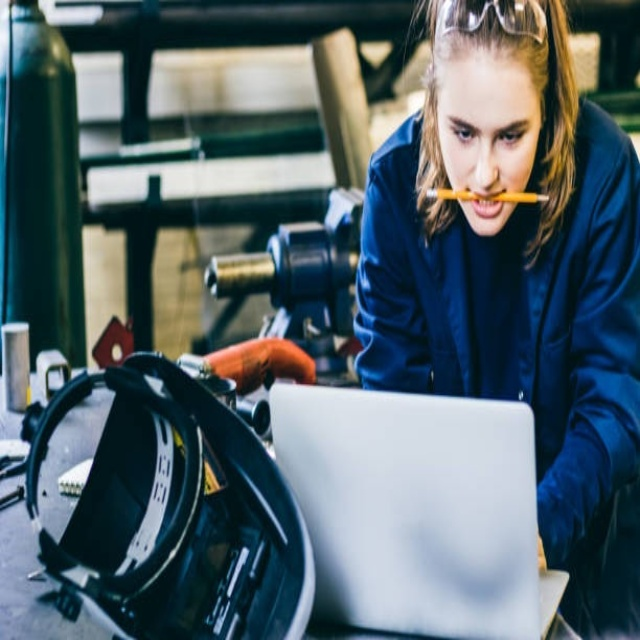Sin_gafas: (442, 108, 533, 160)
Sin_mascara: (465, 185, 505, 227)
